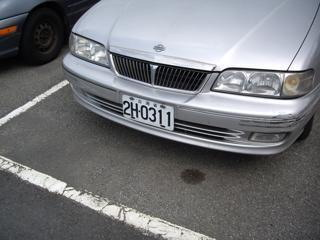plate: (120, 91, 175, 133)
